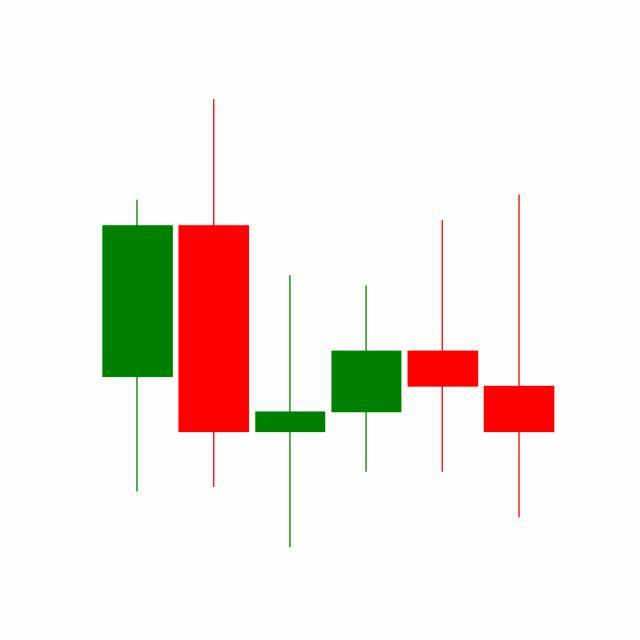Spinning Top: (404, 218, 482, 476)
